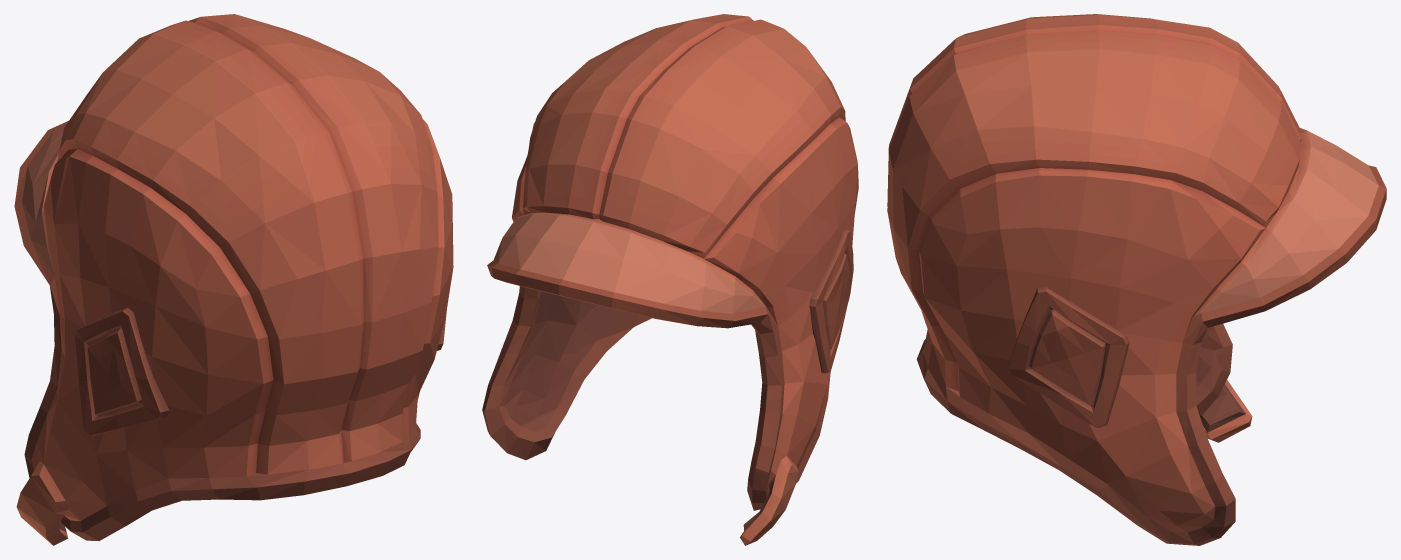
Rendered from CharSkyKid_Hair_AP30AviatorHat.glb.
The picture shows the model from 3 angles, left to right: view 1: azimuth 30°, elevation 25°; view 2: azimuth 150°, elevation 25°; view 3: azimuth 270°, elevation 25°; orthographic projection. The views are drawn at different scales.
Visible parts, largest first — view 1: CharSkyKid_Hair_AP30AviatorHat; view 2: CharSkyKid_Hair_AP30AviatorHat; view 3: CharSkyKid_Hair_AP30AviatorHat.
Part boxes in pixels (box(x1,y1,x2,y2)): CharSkyKid_Hair_AP30AviatorHat: box(14, 14, 453, 545); CharSkyKid_Hair_AP30AviatorHat: box(482, 14, 858, 545); CharSkyKid_Hair_AP30AviatorHat: box(887, 14, 1386, 545).
Size of the model in its own units: 2.71 by 3.8 by 3.61.
1 material, 1 textured.
